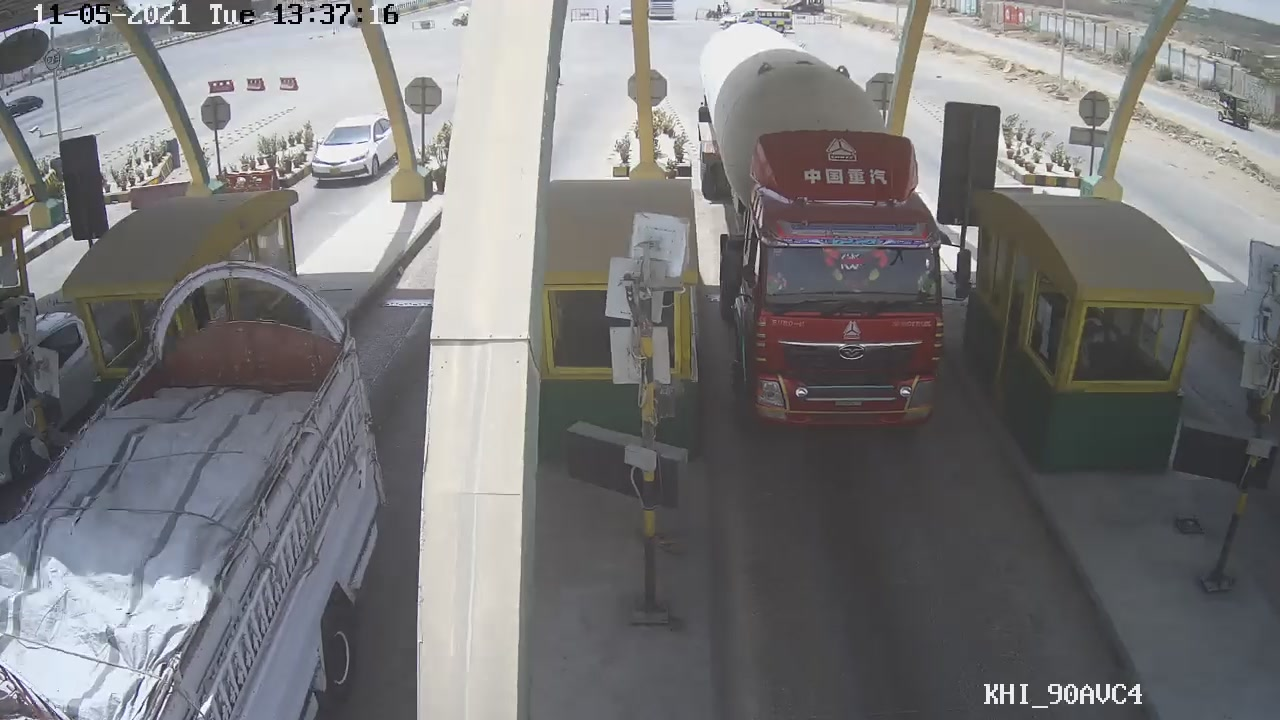F6: (698, 55, 956, 431)
